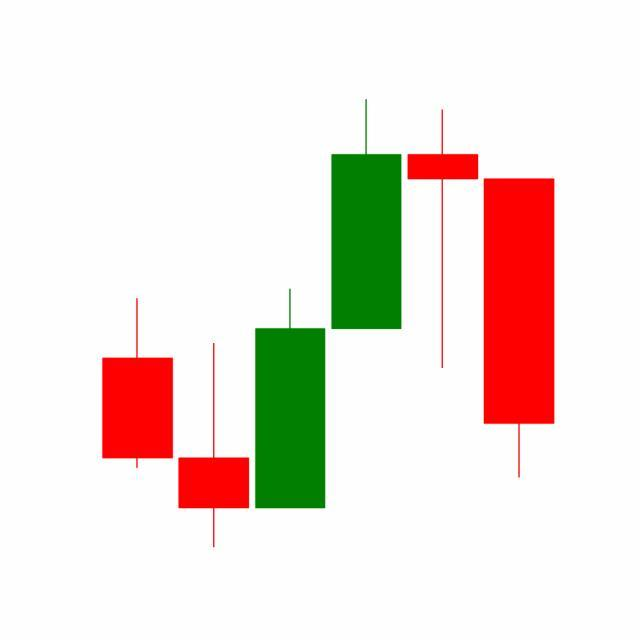Spinning Top: (404, 107, 482, 372)
